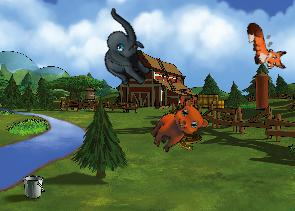bear: (145, 93, 213, 163)
elephant: (80, 7, 169, 93)
fox: (244, 17, 289, 75)
